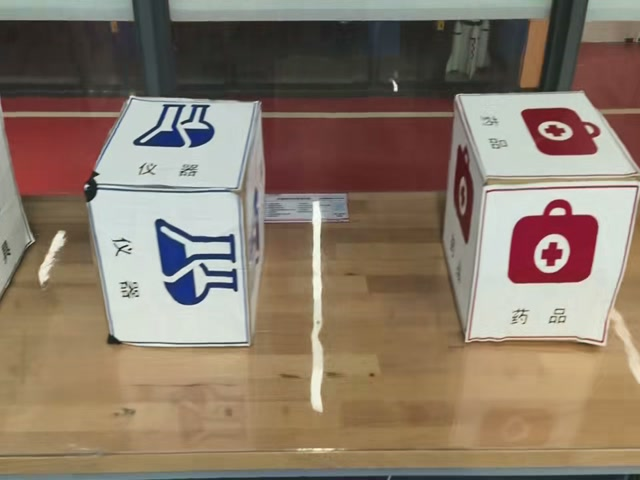Cube_ins: (85, 97, 260, 199)
Cube_medicine: (455, 92, 638, 188)
